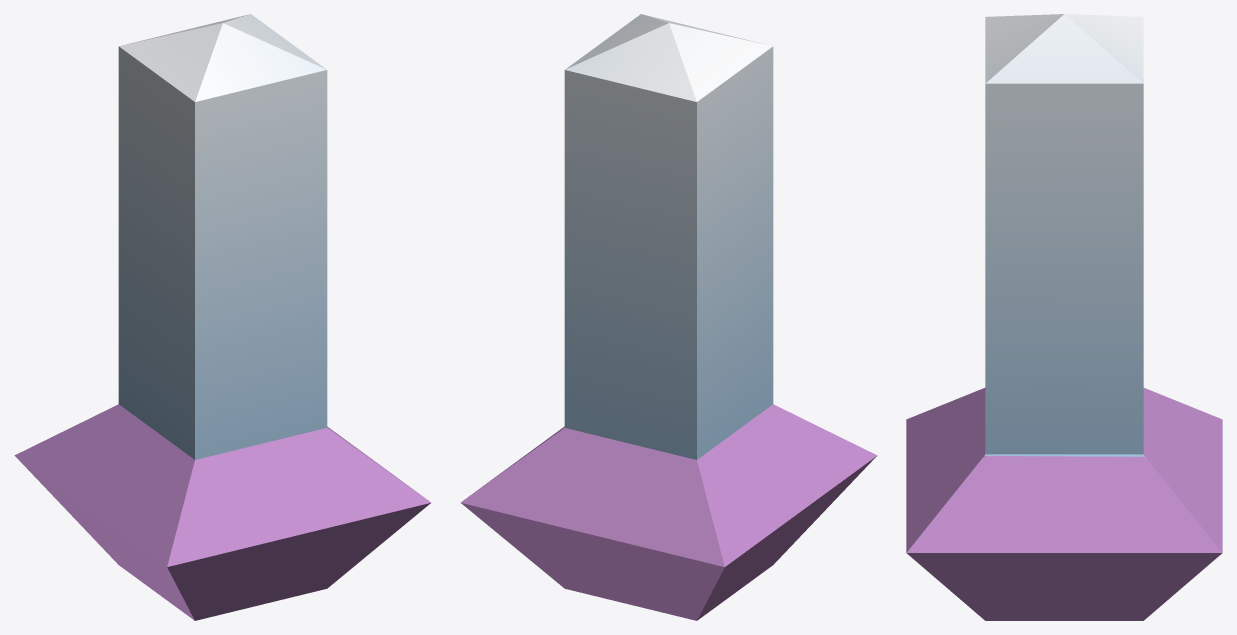
File: Lampe F.FBX
The picture shows the model from 3 angles, left to right: view 1: azimuth 30°, elevation 25°; view 2: azimuth 150°, elevation 25°; view 3: azimuth 270°, elevation 25°; orthographic projection. The views are drawn at different scales.
Visible parts, largest first — view 1: Lampe; view 2: Lampe; view 3: Lampe.
Part boxes in pixels (x1=…): Lampe: x1=14, y1=14, x2=431, y2=620; Lampe: x1=460, y1=14, x2=877, y2=620; Lampe: x1=906, y1=14, x2=1222, y2=620.
Size of the model in its own units: 33.83 by 67.71 by 33.83.
1 material, 1 textured.
